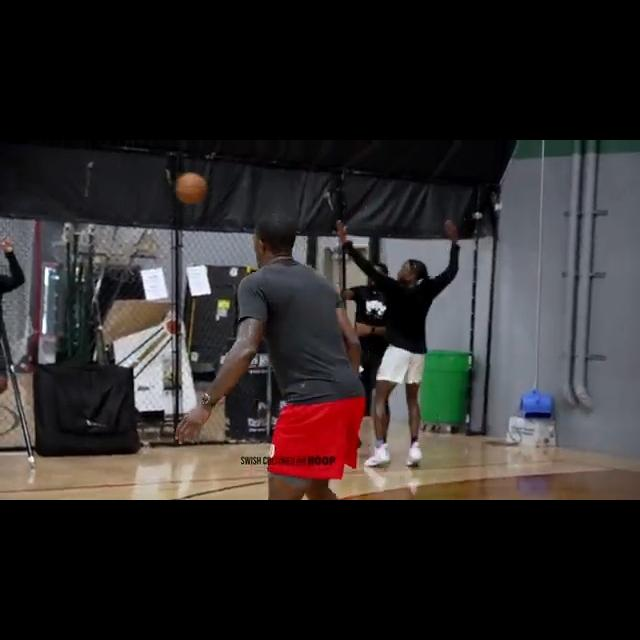basketball: (174, 173, 208, 205)
person: (175, 213, 367, 499), (336, 221, 462, 471), (333, 261, 389, 451), (0, 221, 28, 397)
